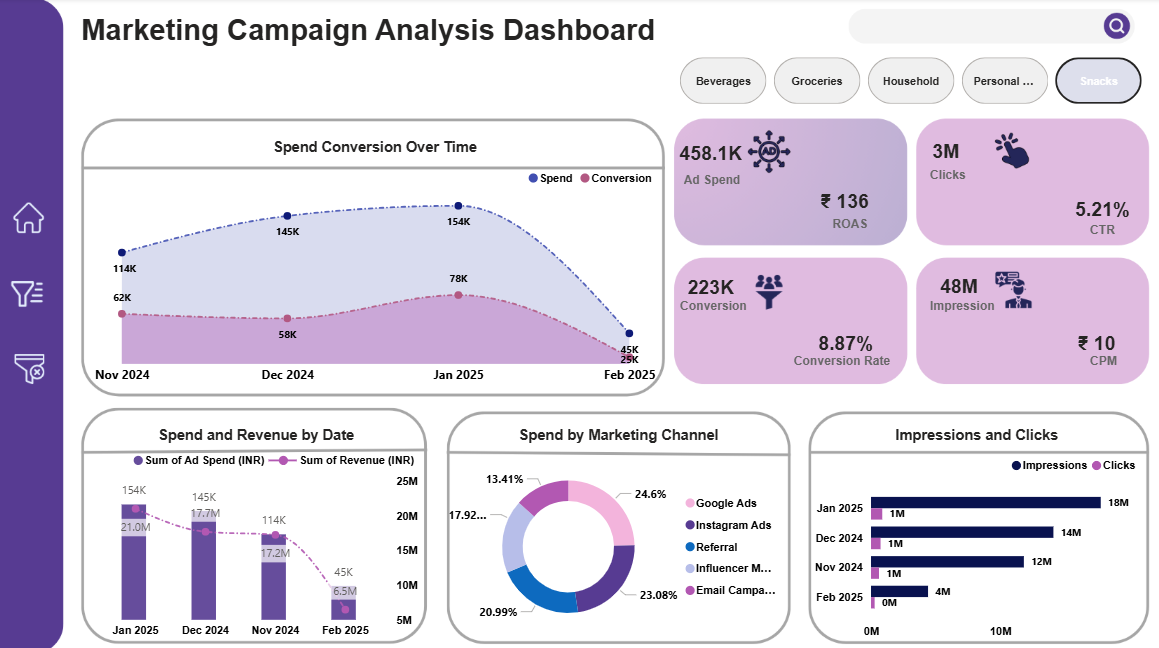

The page's visual inventory and layout, read from the dashboard file:
{"tool":"powerbi","page":{"name":"Page 1","canvas":[1280,720],"ordinal":0},"visuals":[{"type":"textbox","box":[86.4,12.3,657.3,48],"z":0},{"type":"card","fields":{"Values":["marketing.Total_Impression"]},"box":[992.1,289.5,126.2,56.3],"z":1000},{"type":"card","fields":{"Values":["marketing.Total_Click"]},"box":[1008.6,141.3,64.5,56.3],"z":2000},{"type":"card","fields":{"Values":["marketing.Total_Ad_Spend"]},"box":[727.3,144.1,111.1,53.5],"z":3000},{"type":"card","fields":{"Values":["marketing.ROAS"]},"box":[890.6,203.1,78.2,42.5],"z":4000},{"type":"card","fields":{"Values":["marketing.CTR %"]},"box":[1145.8,189.4,134.5,86.4],"z":5000},{"type":"card","fields":{"Values":["marketing.CPM"]},"box":[1154,359.5,104.3,41.2],"z":6000},{"type":"card","fields":{"Values":["marketing.Conversion_Rate(%)"]},"box":[875.5,355.4,111.1,48],"z":7000},{"type":"card","fields":{"Values":["marketing.Conversion"]},"box":[731.4,297.8,102.9,41.2],"z":8000},{"type":"textbox","box":[747.9,185.2,97.4,28.8],"z":9000},{"type":"textbox","box":[1018.2,323.8,109.8,34.3],"z":10000},{"type":"textbox","box":[868.6,384.2,131.7,38.4],"z":11000},{"type":"textbox","box":[743.7,323.8,90.6,43.9],"z":12000},{"type":"textbox","box":[1193.8,240.1,64.5,35.7],"z":13000},{"type":"textbox","box":[1018.2,179.8,90.6,42.5],"z":14000},{"type":"textbox","box":[911.2,233.3,71.4,35.7],"z":15000},{"type":"textbox","box":[1193.8,384.2,71.4,31.6],"z":16000},{"type":"areaChart","title":"Spend Conversion Over Time","fields":{"Y":["Sum(marketing.Ad Spend (INR))","marketing.Conversion"],"Category":["marketing.Campaign Date.Variation.Date Hierarchy.Year","marketing.Campaign Date.Variation.Date Hierarchy.Month"]},"box":[100.2,155.1,627.1,277.2],"z":17000},{"type":"lineStackedColumnComboChart","title":"Spend and Revenue by Date","fields":{"Category":["marketing.Date"],"Y":["Sum(marketing.Ad Spend (INR))"],"Y2":["Sum(marketing.Revenue (INR))"]},"box":[100.2,470.7,366.4,240.1],"z":18000},{"type":"donutChart","title":"Spend by Marketing Channel","fields":{"Category":["marketing.Marketing Channel"],"Y":["Sum(marketing.Ad Spend (INR))"]},"box":[494,470.7,374.6,240.1],"z":19000},{"type":"clusteredBarChart","title":"Impressions and Clicks ","fields":{"Category":["marketing.Date"],"Y":["Sum(marketing.Impressions)","Sum(marketing.Clicks)"]},"box":[890.6,470.7,367.8,240.1],"z":20000},{"type":"advancedSlicerVisual","fields":{"Values":["marketing.Category"]},"box":[743.7,60.4,521.4,61.7],"z":21000}]}

Visuals, with their boxes in screenshot pixels (x1, y1, x2, y2), scaled from the page's 1280x720 canvas onto the 1159x648 screenshot:
textbox: rect(78, 11, 673, 54)
card - marketing.Total_Impression: rect(898, 261, 1013, 311)
card - marketing.Total_Click: rect(913, 127, 972, 178)
card - marketing.Total_Ad_Spend: rect(659, 130, 759, 178)
card - marketing.ROAS: rect(806, 183, 877, 221)
card - marketing.CTR %: rect(1037, 170, 1158, 248)
card - marketing.CPM: rect(1045, 324, 1139, 361)
card - marketing.Conversion_Rate(%): rect(793, 320, 893, 363)
card - marketing.Conversion: rect(662, 268, 755, 305)
textbox: rect(677, 167, 765, 193)
textbox: rect(922, 291, 1021, 322)
textbox: rect(786, 346, 906, 380)
textbox: rect(673, 291, 755, 331)
textbox: rect(1081, 216, 1139, 248)
textbox: rect(922, 162, 1004, 200)
textbox: rect(825, 210, 890, 242)
textbox: rect(1081, 346, 1146, 374)
"Spend Conversion Over Time" areaChart: rect(91, 140, 659, 389)
"Spend and Revenue by Date" lineStackedColumnComboChart: rect(91, 424, 422, 640)
"Spend by Marketing Channel" donutChart: rect(447, 424, 786, 640)
"Impressions and Clicks " clusteredBarChart: rect(806, 424, 1139, 640)
advancedSlicerVisual - marketing.Category: rect(673, 54, 1146, 110)
